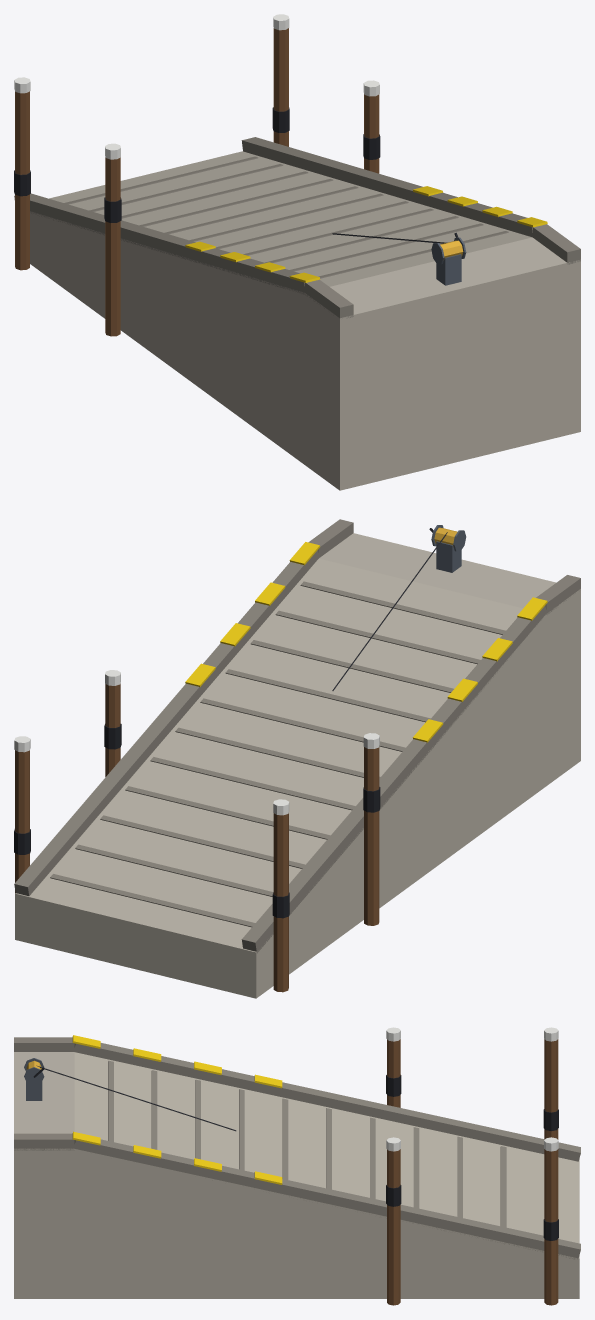
The model's file is boat_ramp.glb.
3 views of the same model, one above another, from view 1: azimuth 30°, elevation 25°; view 2: azimuth 150°, elevation 25°; view 3: azimuth 270°, elevation 25° (orthographic). The views are drawn at different scales.
Parts seen in each view (by area): view 1: Ramp; view 2: Ramp; view 3: Ramp.
Part boxes in pixels (x1=…): Ramp: x1=14, y1=14, x2=580, y2=490; Ramp: x1=14, y1=519, x2=580, y2=998; Ramp: x1=14, y1=1027, x2=580, y2=1305.
Bounding box in the file's own units: 6.82 × 5.06 × 14.04.
